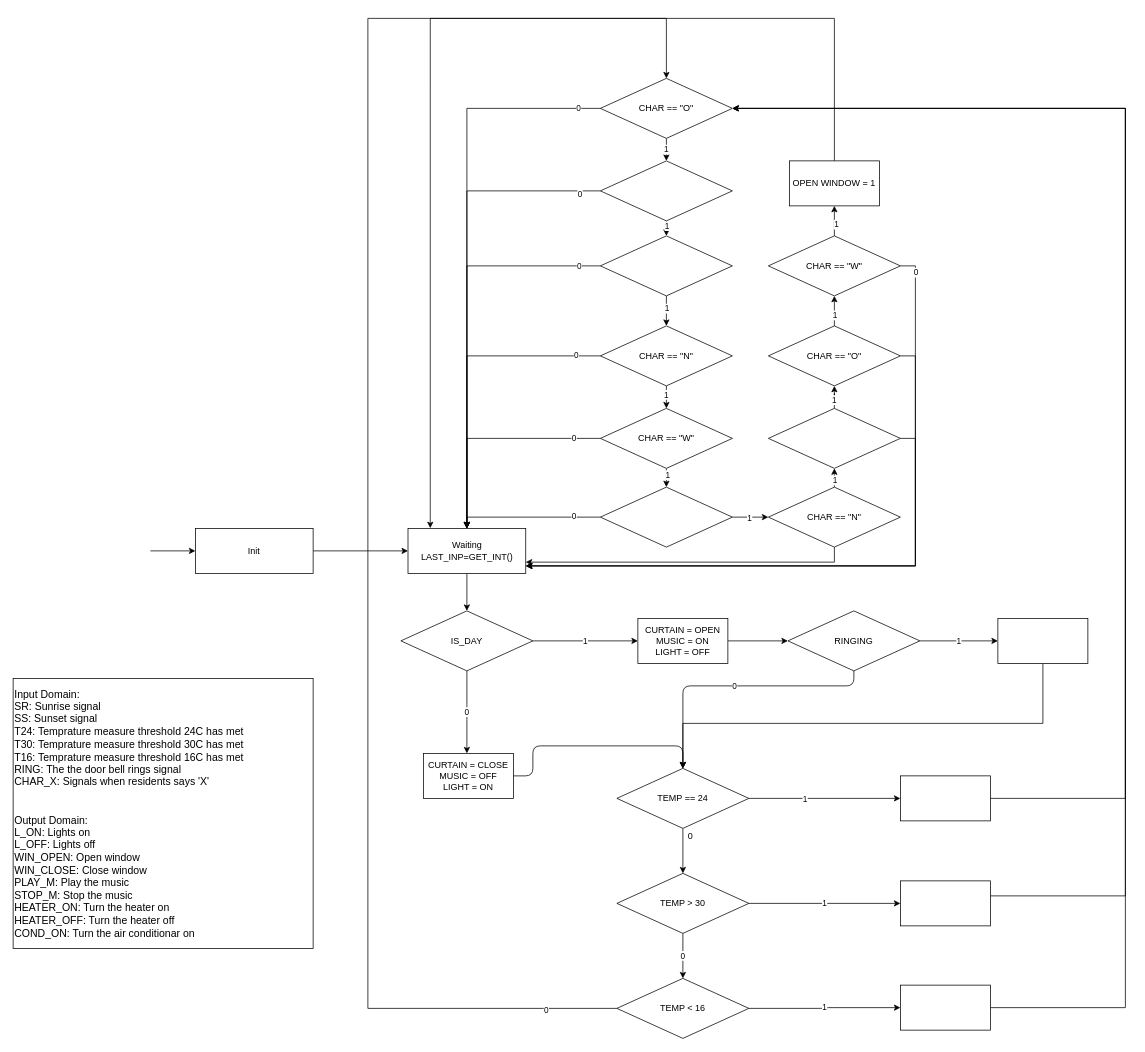
Image size: 1145x1052. Some labels were removed from this diagram. Each missing label, with the centre of its shape:
CHAR == "D": pixel 834 438
CHAR == "E": pixel 666 265
CHAR == "I": pixel 666 516
CHAR == "P": pixel 666 190
COOLER = OFF HEATER = OFF: pixel 945 798
COOLER = ON: pixel 945 903
HEATER = ON: pixel 945 1007
MUSIC = OFF: pixel 1042 640
